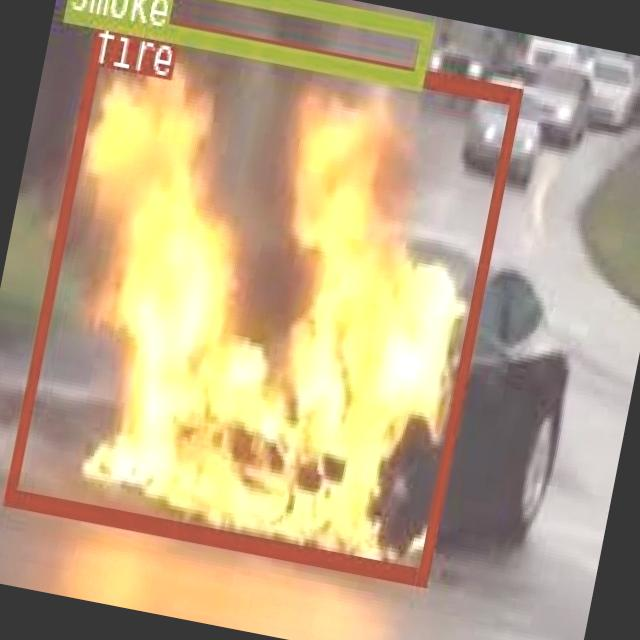fire: (2, 5, 522, 582)
smoke: (62, 0, 431, 86)
